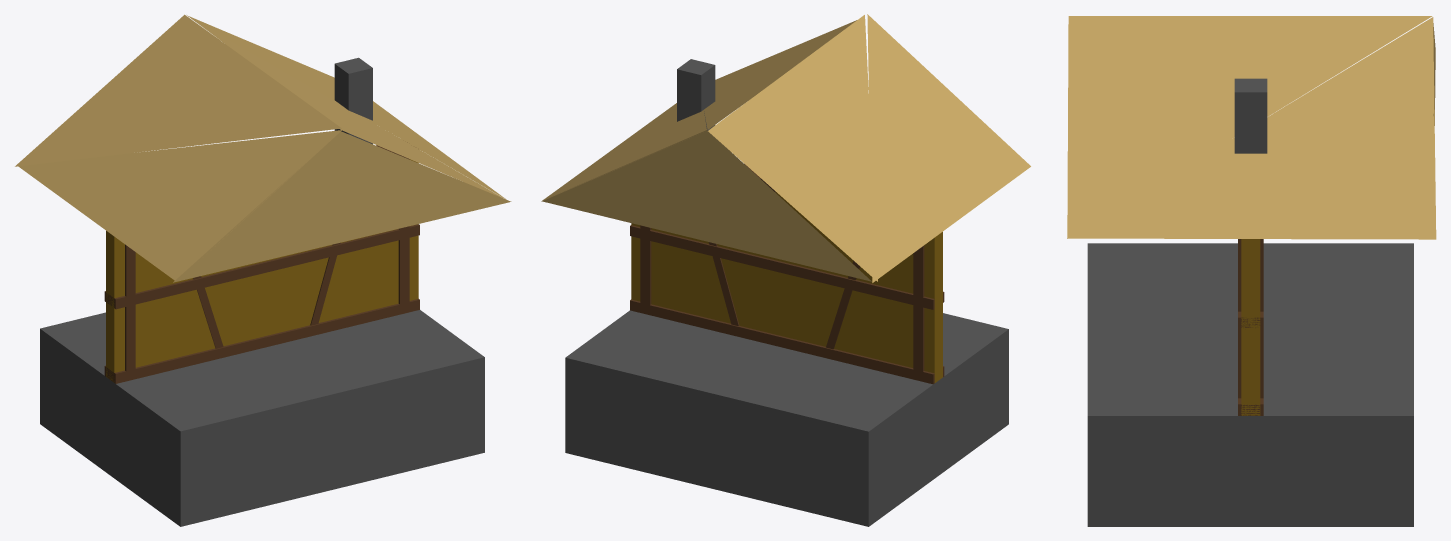
The model's file is mansion_t1.glb.
3 renders of one model, left to right at view 1: azimuth 30°, elevation 25°; view 2: azimuth 150°, elevation 25°; view 3: azimuth 270°, elevation 25°, orthographic. The views are drawn at different scales.
Visible parts, largest first — view 1: building-mansion; view 2: building-mansion; view 3: building-mansion.
Boxes of the visible parts, x1,y1,x2,y2 form: building-mansion: [15, 14, 511, 526]; building-mansion: [541, 14, 1030, 526]; building-mansion: [1067, 16, 1436, 526].
Bounding box in the file's own units: 0.1415 × 0.1467 × 0.116.
